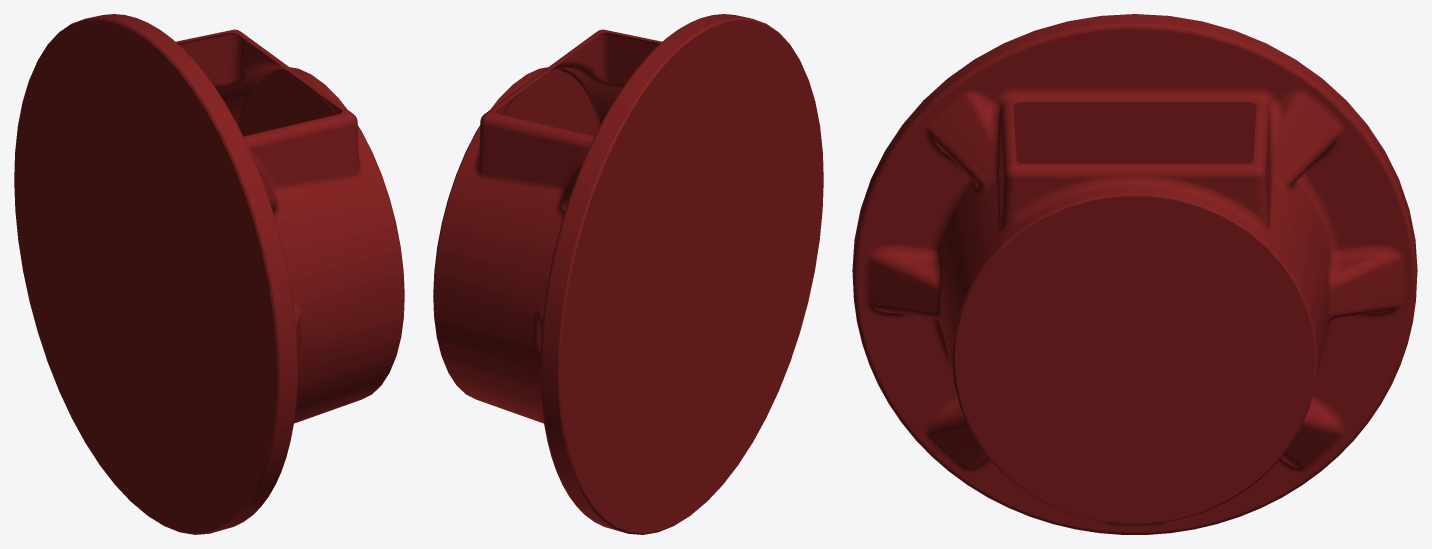
3 views of the same model, side by side, from view 1: azimuth 30°, elevation 25°; view 2: azimuth 150°, elevation 25°; view 3: azimuth 270°, elevation 25° (orthographic). The views are drawn at different scales.
Visible parts, largest first — view 1: base_1; view 2: base_1; view 3: base_1.
Boxes of the visible parts, x1=… form: base_1: x1=14, y1=14, x2=404, y2=534; base_1: x1=433, y1=14, x2=823, y2=534; base_1: x1=852, y1=14, x2=1417, y2=534.
Size of the model in its own units: 0.0806 by 0.2105 by 0.2105.
